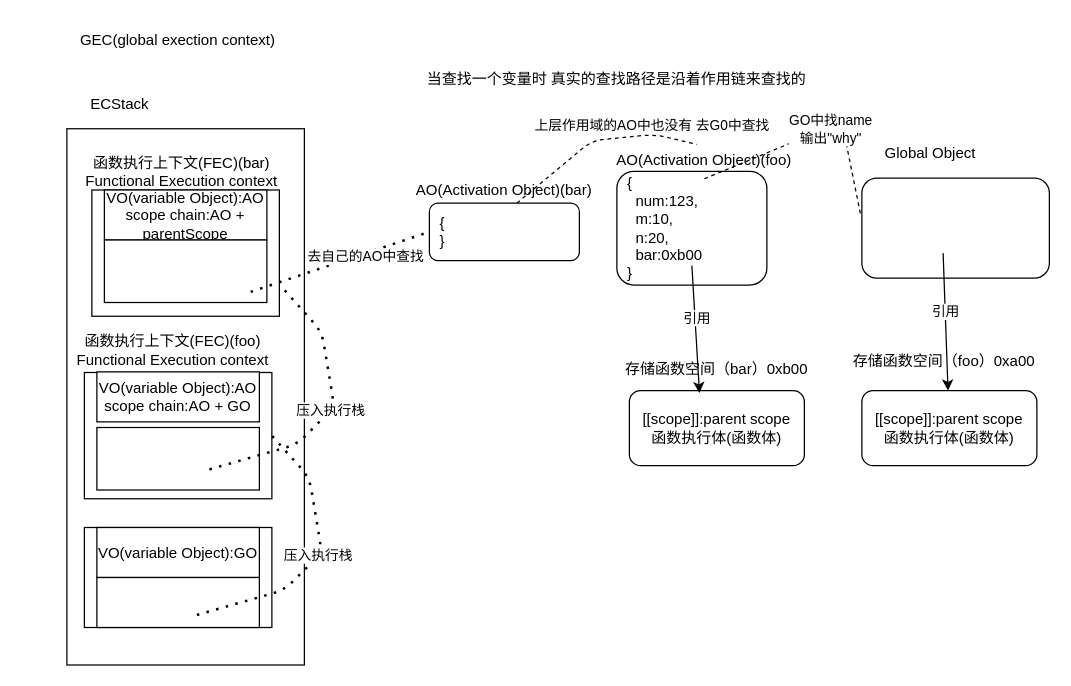
The diagram is 1071 pixels wide and 686 high, and some of its shapes have lost their labels. The centre of each missing label's shape, as x and y in pixels:
{ name:"why", foo:0xa00 }: (955,227)
开始执行代码 foo(): (177,602)
开始执行函数代码 console.log(m) bar(): (177,458)
开始执行函数代码 console.log(name): (185,270)
